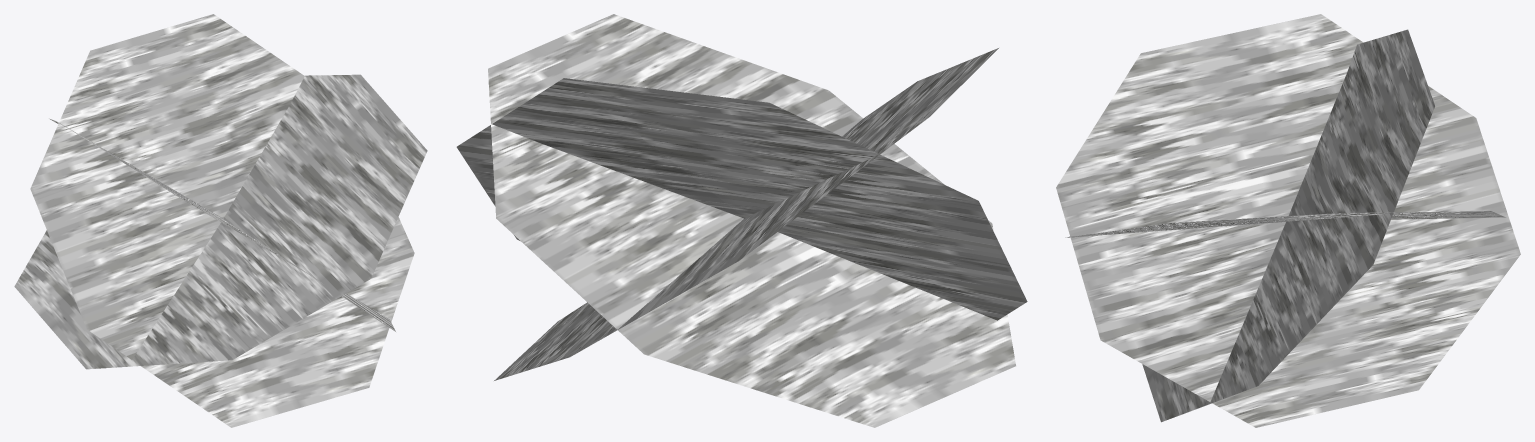
Rendered from mist.obj.
The picture shows the model from 3 angles, left to right: view 1: azimuth 30°, elevation 25°; view 2: azimuth 150°, elevation 25°; view 3: azimuth 270°, elevation 25°; orthographic projection. The views are drawn at different scales.
Visible parts, largest first — view 1: cube; view 2: cube; view 3: cube.
Part boxes in pixels (box(x1,y1,x2,y2)): cube: box(14, 14, 427, 427); cube: box(456, 14, 1027, 427); cube: box(1056, 14, 1520, 427).
Size of the model in its own units: 2.1 by 1.63 by 2.22.
